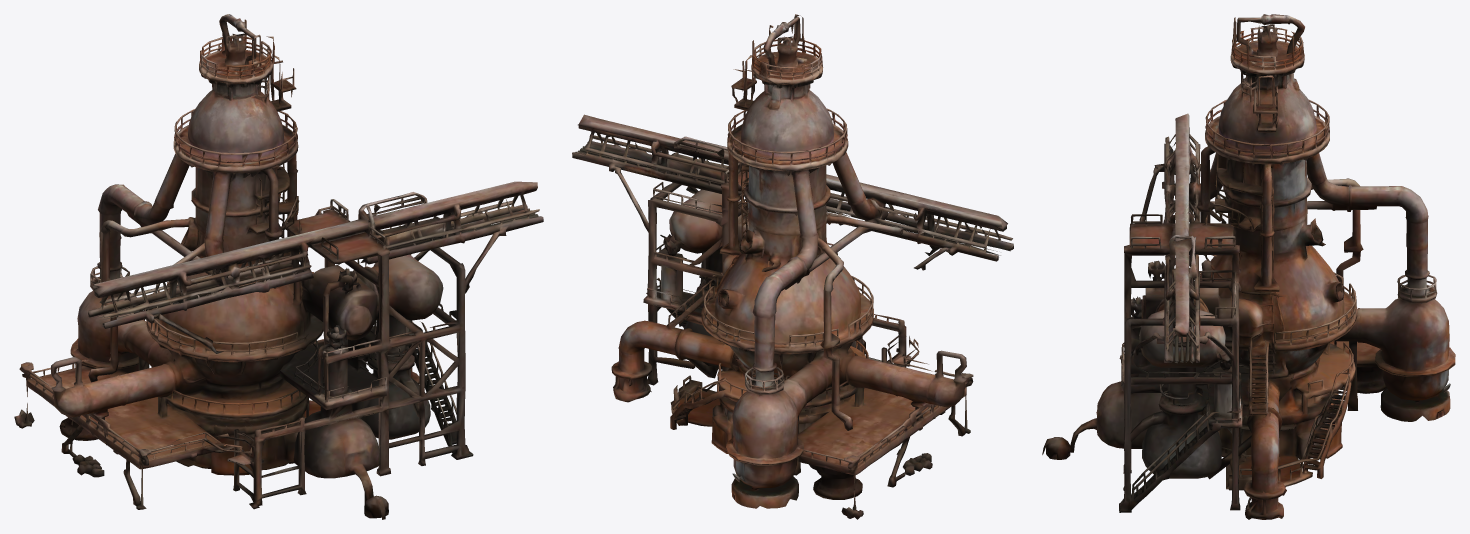
The model's file is wonder_volklingen.glb.
3 renders of one model, left to right at view 1: azimuth 30°, elevation 25°; view 2: azimuth 150°, elevation 25°; view 3: azimuth 270°, elevation 25°, orthographic. The views are drawn at different scales.
Visible parts, largest first — view 1: tripo_node_5992dc2b-45d7-4702-b1a5-40ffa9571334; view 2: tripo_node_5992dc2b-45d7-4702-b1a5-40ffa9571334; view 3: tripo_node_5992dc2b-45d7-4702-b1a5-40ffa9571334.
Part boxes in pixels (<box>): tripo_node_5992dc2b-45d7-4702-b1a5-40ffa9571334: <box>14,14,543,519</box>; tripo_node_5992dc2b-45d7-4702-b1a5-40ffa9571334: <box>572,14,1013,519</box>; tripo_node_5992dc2b-45d7-4702-b1a5-40ffa9571334: <box>1042,14,1455,519</box>.
Bounding box in the file's own units: 1 × 0.9209 × 0.811.
1 material, 1 textured.
